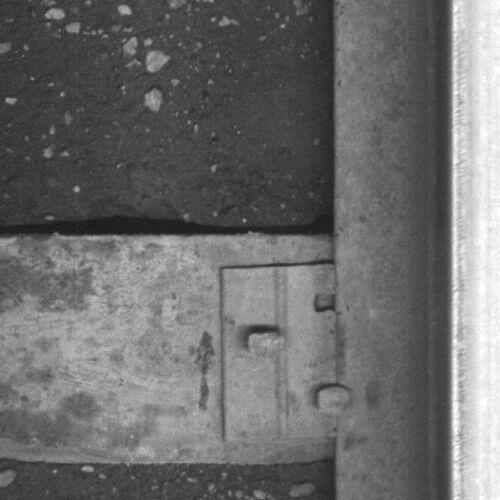do: (219, 262, 355, 438)
rail: (449, 1, 500, 500)
tie_wood: (1, 234, 337, 461)
